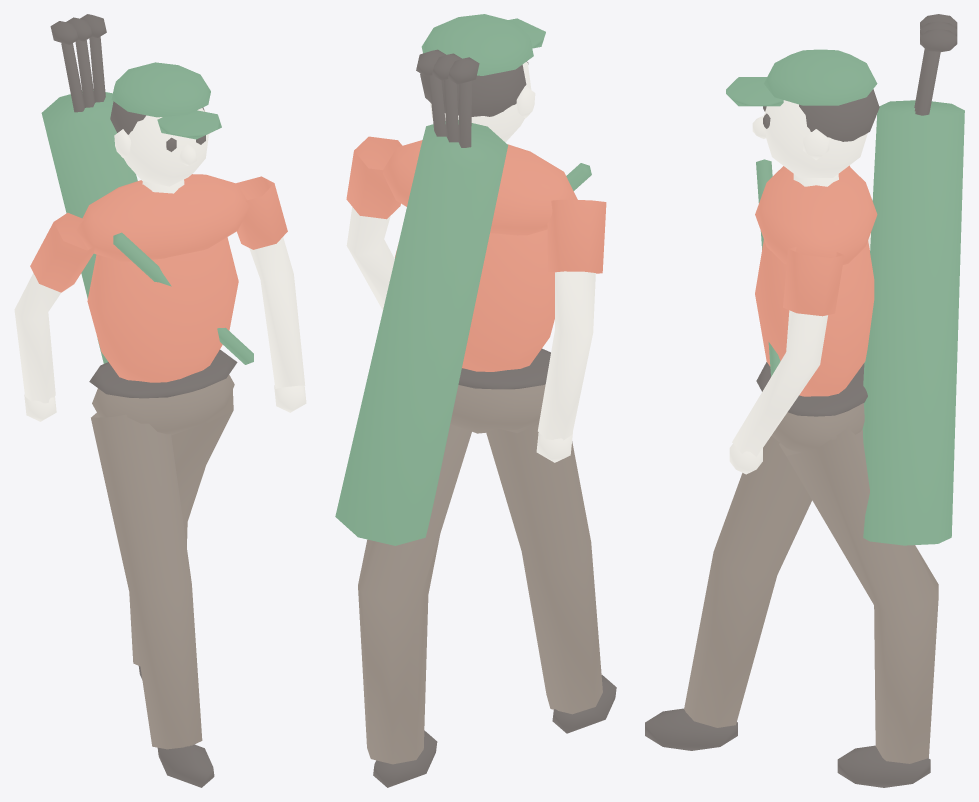
File: Blender_Walker_1.glb
3 renders of one model, left to right at view 1: azimuth 30°, elevation 25°; view 2: azimuth 150°, elevation 25°; view 3: azimuth 270°, elevation 25°, orthographic. The views are drawn at different scales.
Visible parts, largest first — view 1: Blender_Walker_1; view 2: Blender_Walker_1; view 3: Blender_Walker_1.
Part boxes in pixels (<box>): Blender_Walker_1: <box>14,14,306,787</box>; Blender_Walker_1: <box>335,14,616,787</box>; Blender_Walker_1: <box>645,14,964,787</box>.
Size of the model in its own units: 0.6877 by 1.85 by 0.7312.
